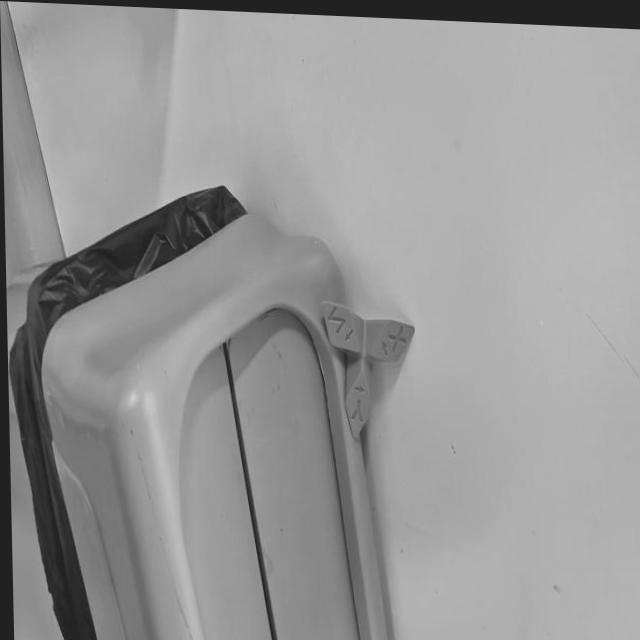eje: (319, 297, 419, 443)
